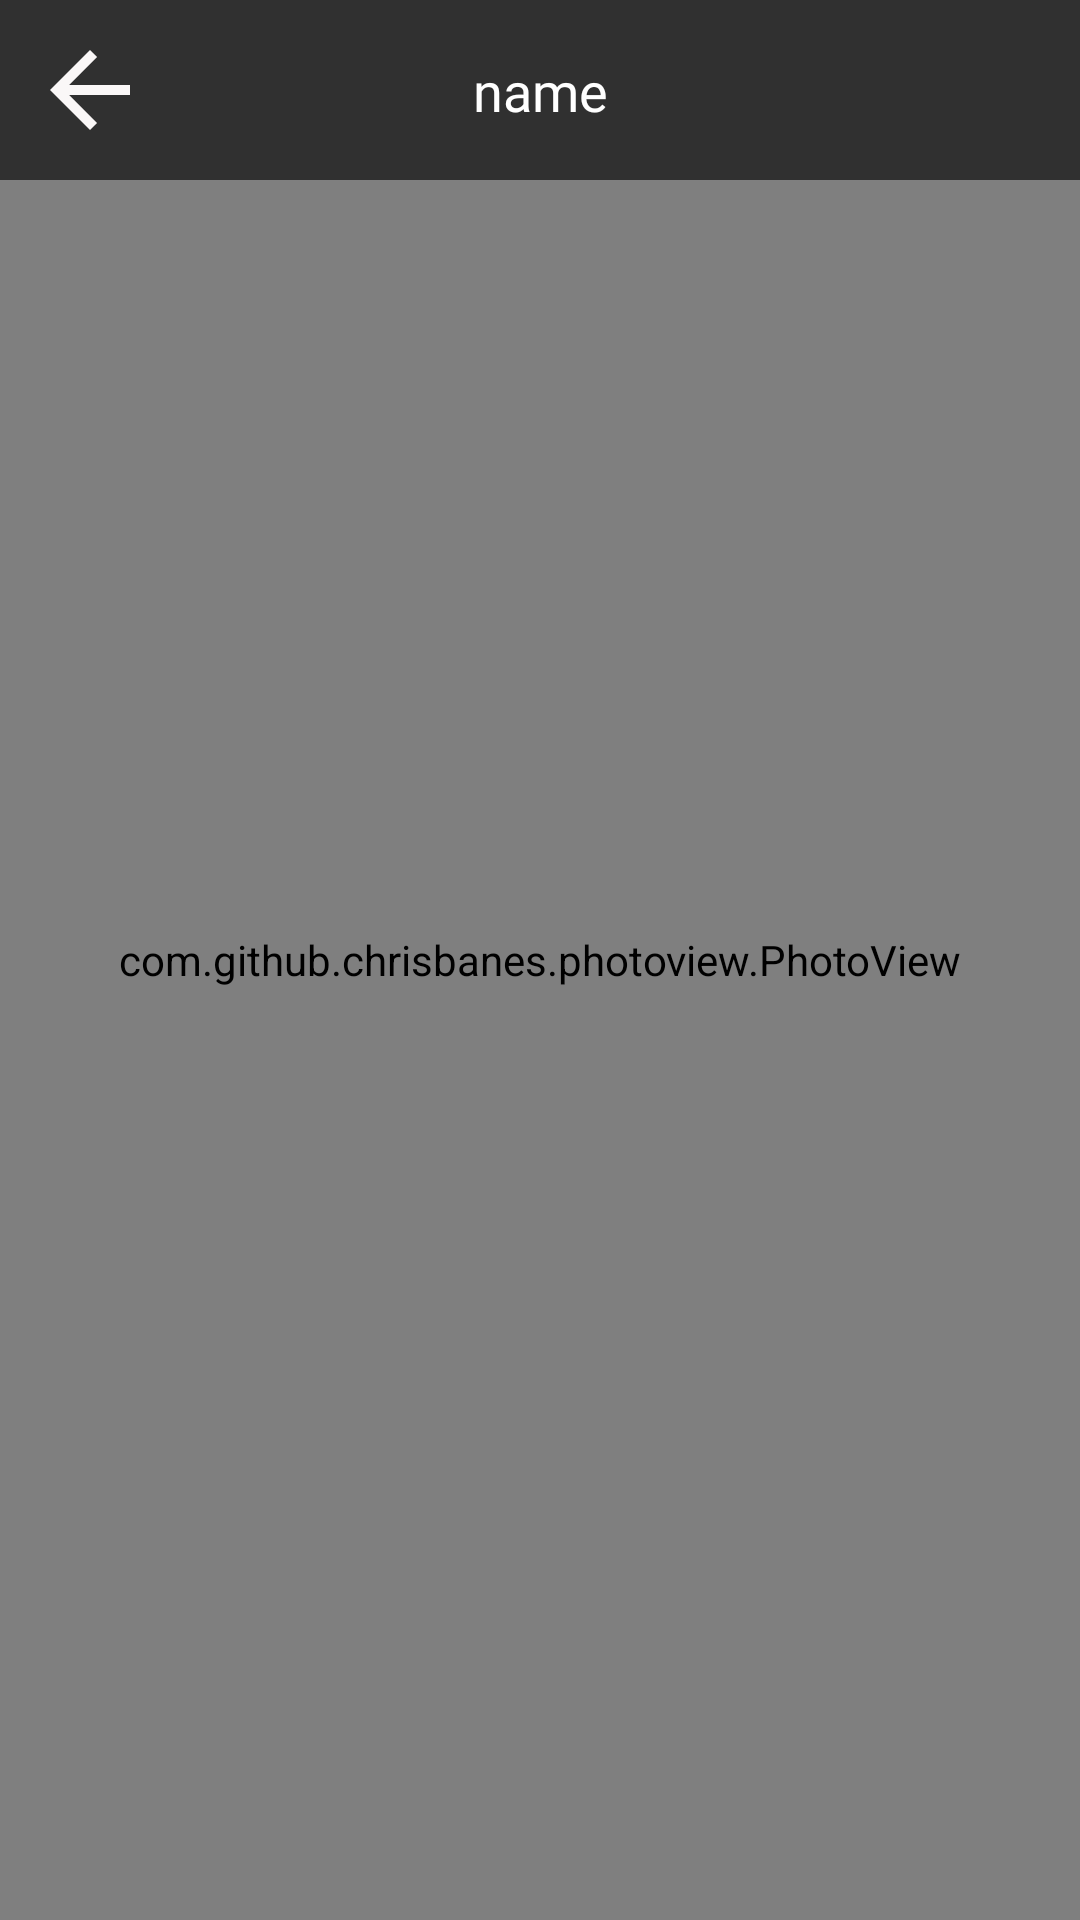

Point at icon controls on the screen. Image size 1080×1920, points as (x=x, y=y).
arrow back: (x=90, y=90)
